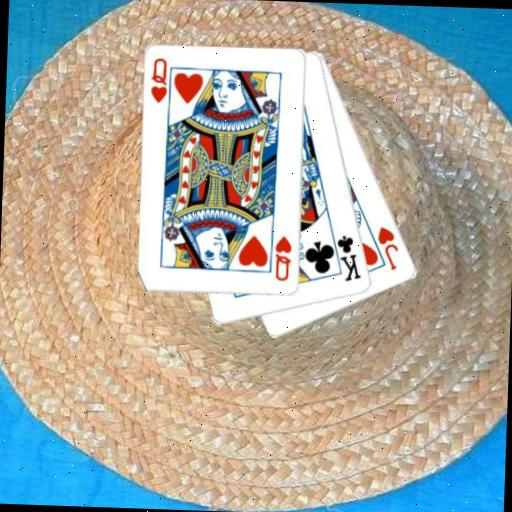JH: (373, 223, 401, 272)
KC: (327, 229, 364, 283)
QH: (148, 55, 175, 111), (271, 232, 294, 283)
